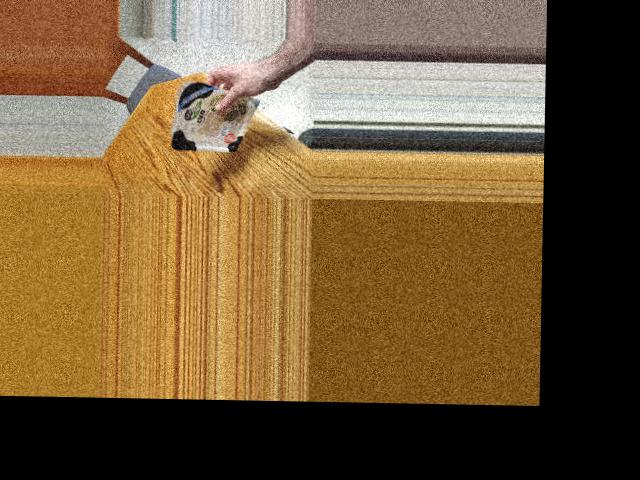cheese: (169, 92, 253, 145)
